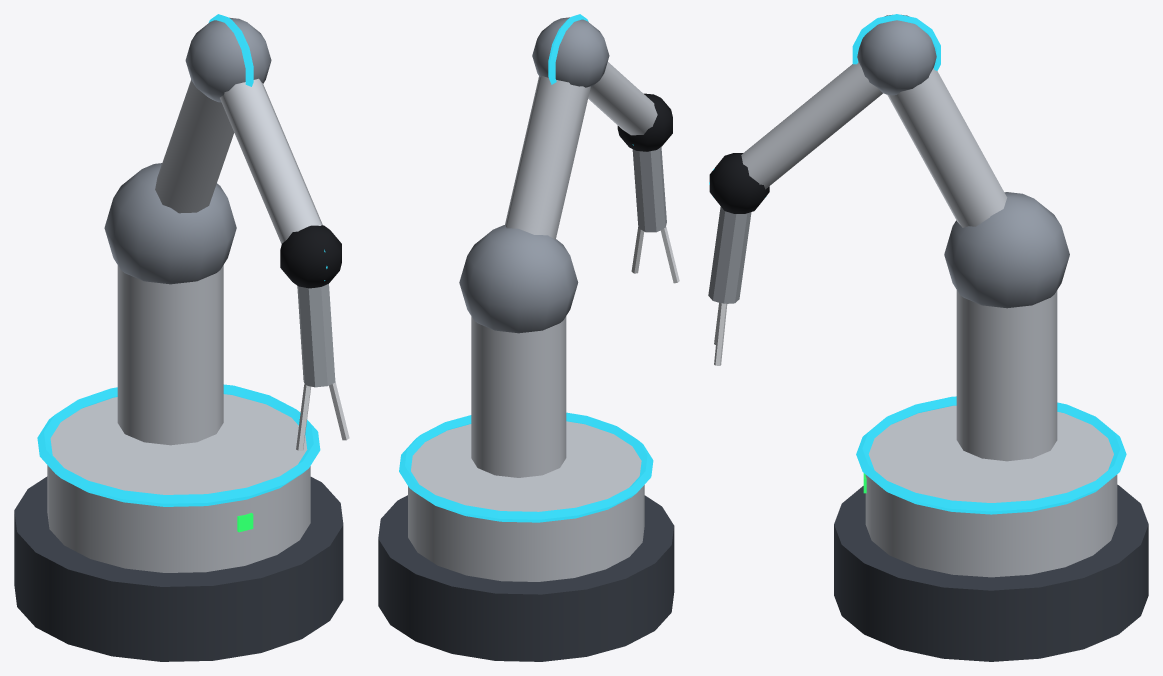
The model's file is surgical_surgical_robotic_arm_unit.glb.
The picture shows the model from 3 angles, left to right: view 1: azimuth 30°, elevation 25°; view 2: azimuth 150°, elevation 25°; view 3: azimuth 270°, elevation 25°; orthographic projection. The views are drawn at different scales.
Parts seen in each view (by area): view 1: surgical_surgical_robotic_arm_unit; view 2: surgical_surgical_robotic_arm_unit; view 3: surgical_surgical_robotic_arm_unit.
Part boxes in pixels (x1=…): surgical_surgical_robotic_arm_unit: x1=14, y1=14, x2=349, y2=661; surgical_surgical_robotic_arm_unit: x1=378, y1=14, x2=679, y2=661; surgical_surgical_robotic_arm_unit: x1=708, y1=14, x2=1148, y2=661.
Size of the model in its own units: 1 by 2.04 by 1.4.
